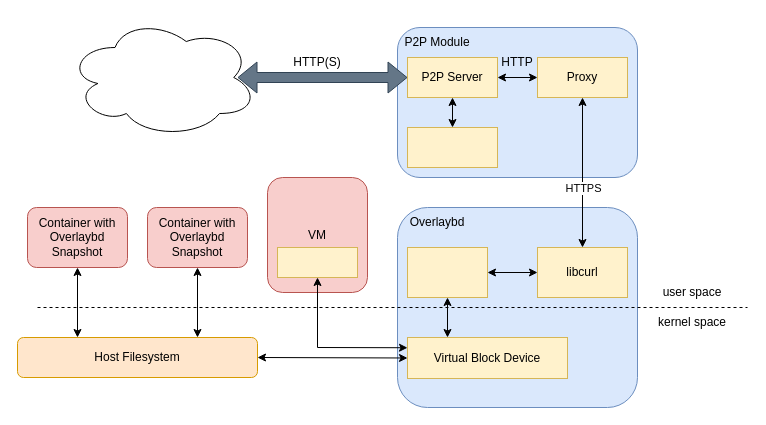
Image size: 766x425. Some labels were removed from this diagram. Here are the shapes that lost their labels. From the top down, the centre of each, then its label:
point 162,77: Other P2P Node or Registy
point 452,147: Cache Pool
point 317,262: Guest Filesystem
point 447,272: TCMU
